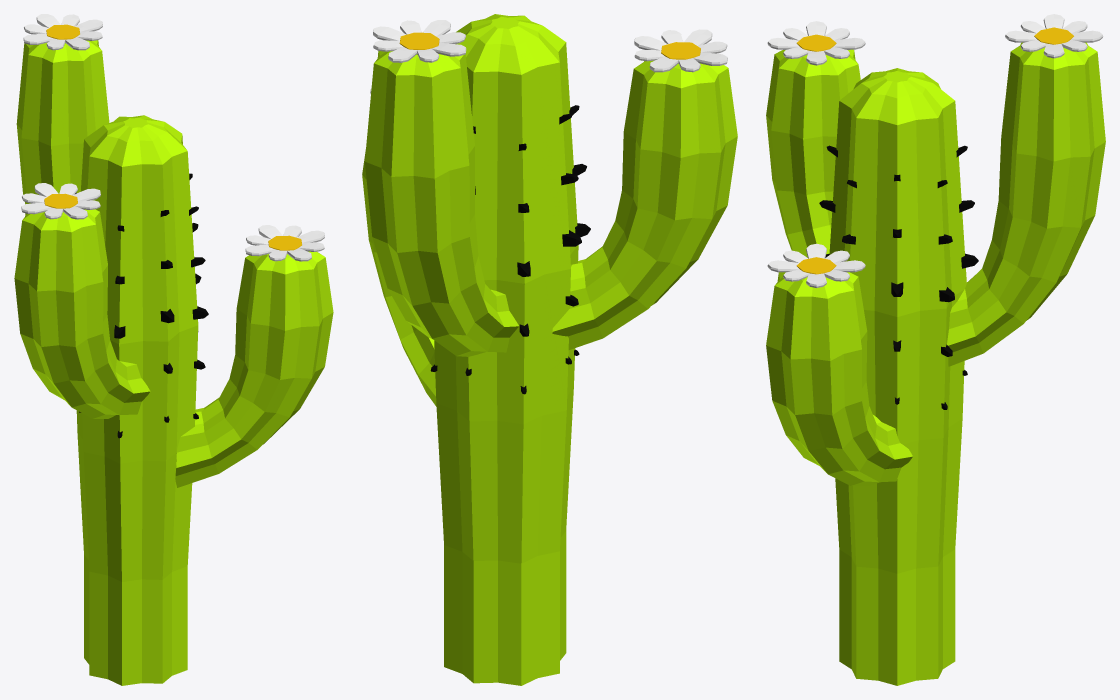
The model's file is Cardon02_03Brazos_Flor_Blanca.fbx.
3 renders of one model, left to right at view 1: azimuth 30°, elevation 25°; view 2: azimuth 150°, elevation 25°; view 3: azimuth 270°, elevation 25°, orthographic. The views are drawn at different scales.
Parts seen in each view (by area): view 1: Cactus, Flor_Blanca, Espinas; view 2: Cactus, Flor_Blanca, Espinas; view 3: Cactus, Flor_Blanca, Espinas.
Part boxes in pixels (x1,y1,x2,y2): Cactus: [14, 40, 333, 685]; Flor_Blanca: [21, 14, 324, 261]; Espinas: [75, 173, 208, 438]; Cactus: [362, 14, 737, 685]; Flor_Blanca: [370, 20, 727, 93]; Espinas: [430, 105, 590, 394]; Cactus: [766, 42, 1105, 685]; Flor_Blanca: [767, 14, 1103, 287]; Espinas: [819, 145, 978, 409].
Size of the model in its own units: 124 by 226 by 111.
